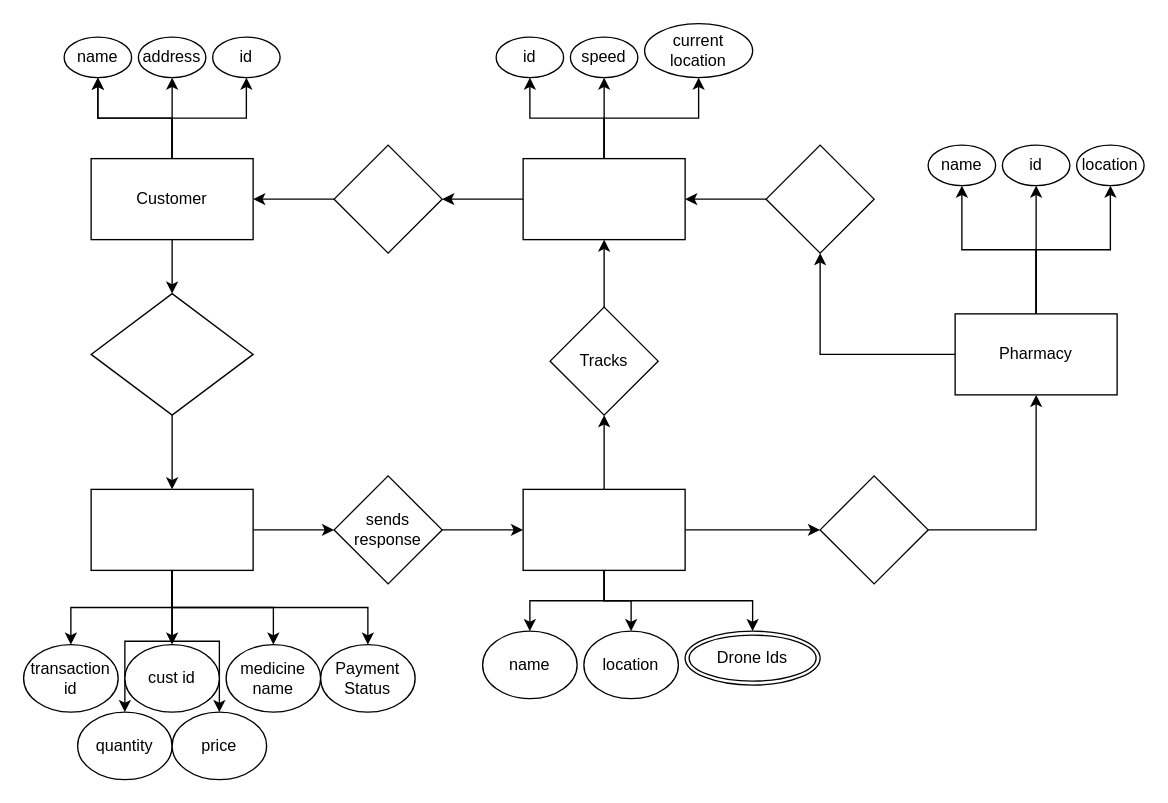
This 1168x803 diagram has some shape labels left out. Here are the shapes that lost their labels. From the top down, the centre of each, then its label:
At point 387,198: "Delivers To".
At point 603,198: "Drone".
At point 819,198: "Sends medicine".
At point 171,353: "Places Order".
At point 171,529: "Order".
At point 603,529: "Company".
At point 873,529: "Sends an invoice".
